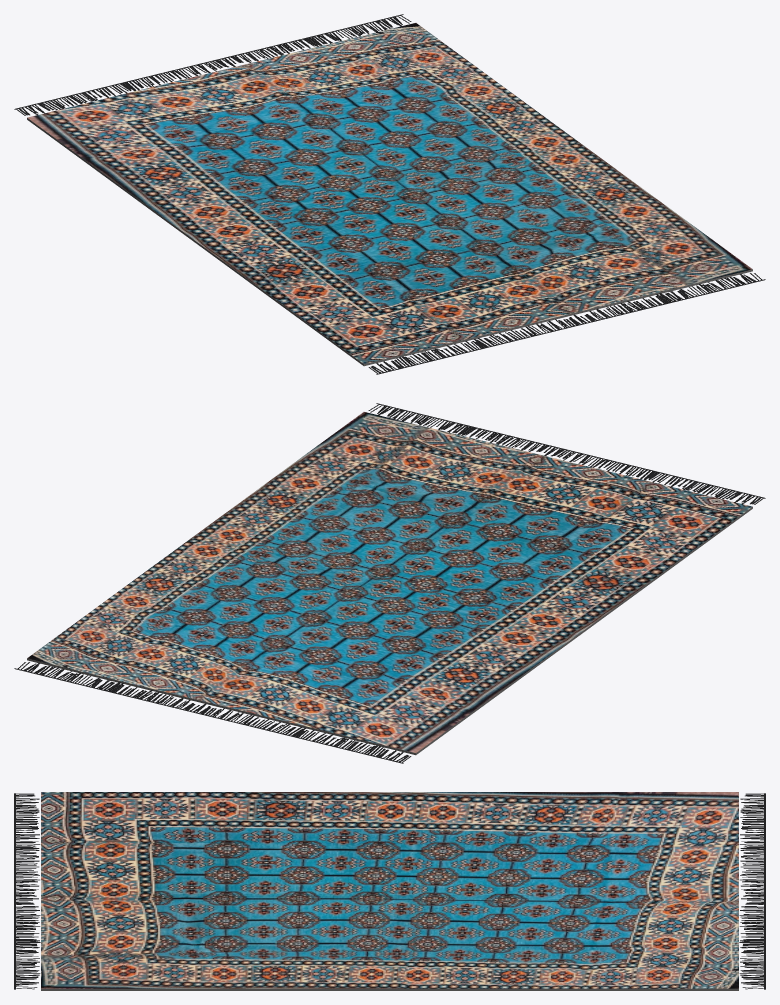
3 renders of one model, top to bottom at view 1: azimuth 30°, elevation 25°; view 2: azimuth 150°, elevation 25°; view 3: azimuth 270°, elevation 25°, orthographic. The views are drawn at different scales.
Visible parts, largest first — view 1: rug, fringeB, fringeA, side; view 2: rug, fringeA, fringeB, side; view 3: rug, fringeA, fringeB, side.
Part boxes in pixels (left/top/right/bottom): rug: left=27, top=23, right=752, bottom=363; fringeB: left=368, top=273, right=765, bottom=374; fringeA: left=14, top=14, right=411, bottom=115; side: left=27, top=118, right=752, bottom=366; rug: left=27, top=412, right=752, bottom=752; fringeA: left=14, top=662, right=411, bottom=763; fringeB: left=368, top=403, right=765, bottom=504; side: left=27, top=507, right=752, bottom=755; rug: left=41, top=792, right=738, bottom=988; fringeA: left=739, top=793, right=765, bottom=989; fringeB: left=14, top=793, right=40, bottom=989; side: left=41, top=988, right=738, bottom=990.
Size of what is drawn, in the model's own units: 1.2 by 0.00614 by 1.94.
2 materials, 2 textured.
